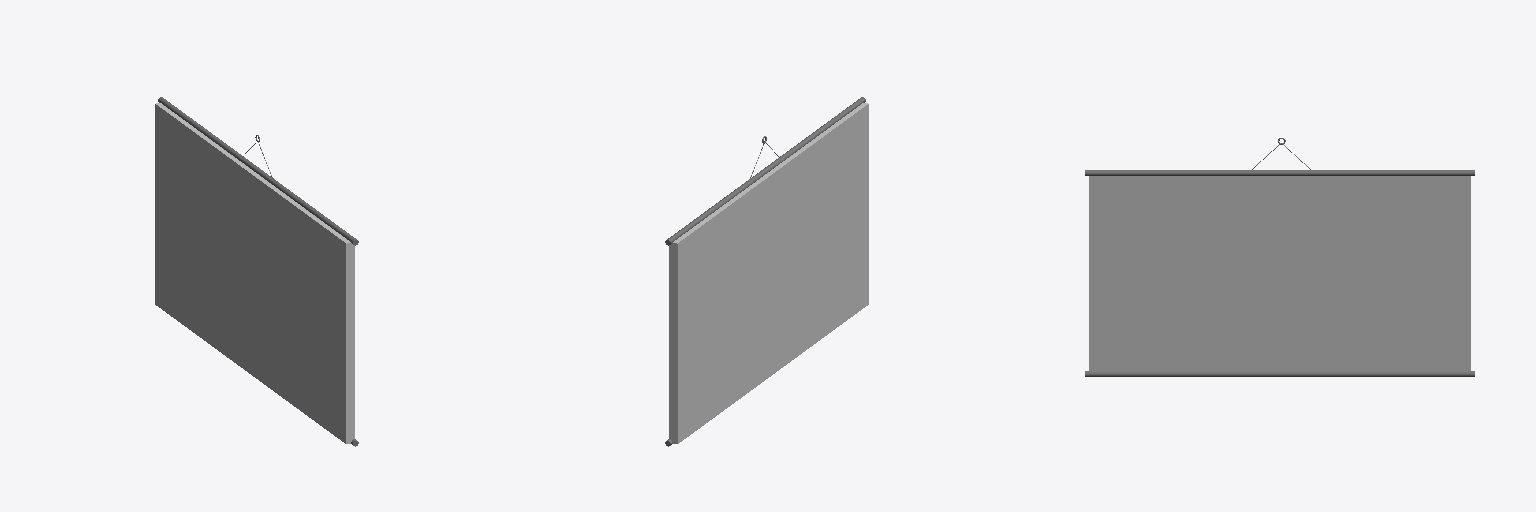
File: reclamebord.obj
3 renders of one model, left to right at view 1: azimuth 30°, elevation 25°; view 2: azimuth 150°, elevation 25°; view 3: azimuth 270°, elevation 25°, orthographic.
Parts seen in each view (by area): view 1: Torus; view 2: Torus; view 3: Torus.
Part boxes in pixels (bbox=[...]): Torus: bbox=[155, 97, 358, 446]; Torus: bbox=[665, 97, 868, 446]; Torus: bbox=[1085, 138, 1474, 376].
Size of the model in its own units: 0.0756 by 1.68 by 2.48.